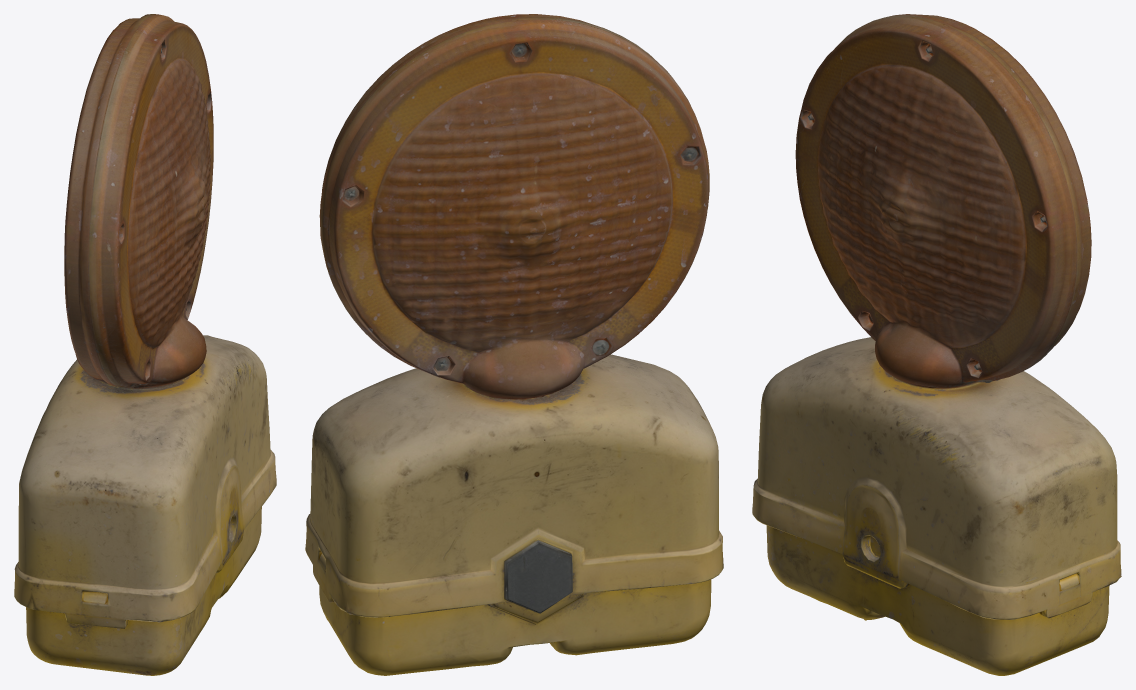
Rendered from 3d_scan_quixel_megascans.glb.
3 renders of one model, left to right at view 1: azimuth 30°, elevation 25°; view 2: azimuth 150°, elevation 25°; view 3: azimuth 270°, elevation 25°, orthographic. The views are drawn at different scales.
Visible parts, largest first — view 1: Aset_industrial_hardware_L_vgledic_00_LOD0_2; view 2: Aset_industrial_hardware_L_vgledic_00_LOD0_2; view 3: Aset_industrial_hardware_L_vgledic_00_LOD0_2.
Part boxes in pixels (x1,y1,x2,y2): Aset_industrial_hardware_L_vgledic_00_LOD0_2: (14,14,276,675); Aset_industrial_hardware_L_vgledic_00_LOD0_2: (305,14,723,675); Aset_industrial_hardware_L_vgledic_00_LOD0_2: (752,14,1121,675).
Size of the model in its own units: 0.1815 by 0.3177 by 0.1807.
Materials: 1 (1 with a texture image).
